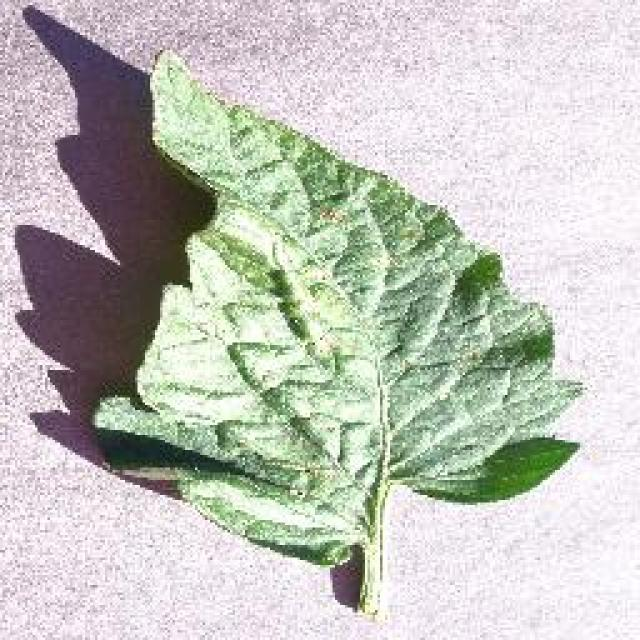Tom_Target_Spot: (228, 193, 422, 365)
